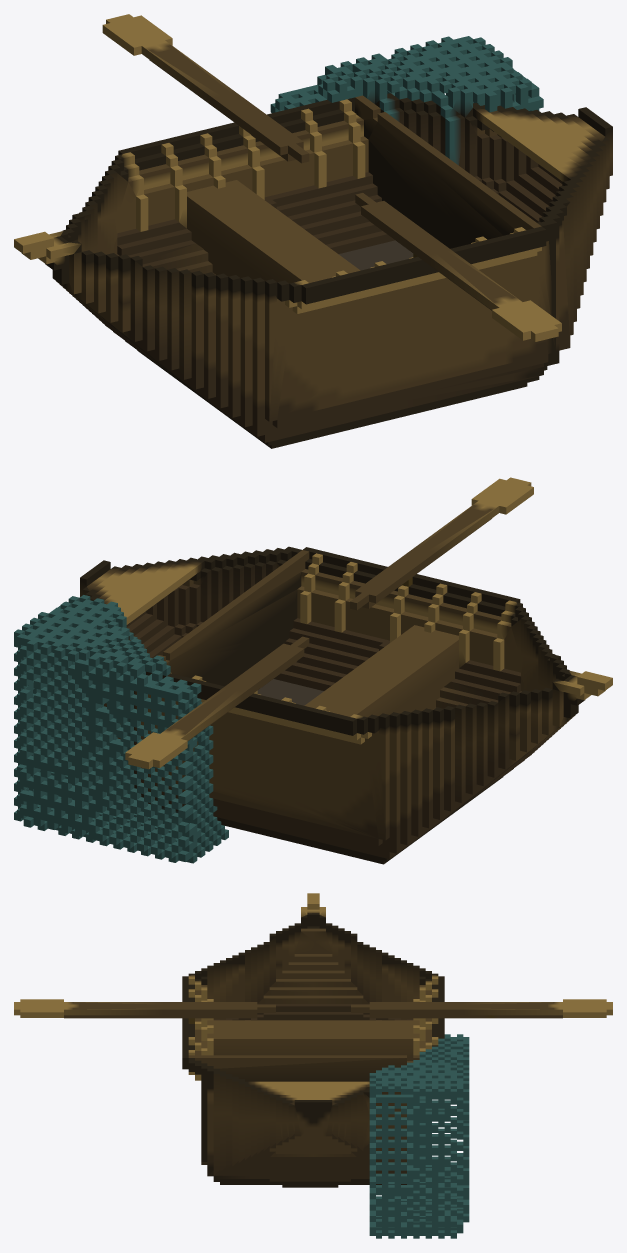
The model's file is Modell_BootmitNetz.dae.
3 renders of one model, top to bottom at view 1: azimuth 30°, elevation 25°; view 2: azimuth 150°, elevation 25°; view 3: azimuth 270°, elevation 25°, orthographic. The views are drawn at different scales.
Visible parts, largest first — view 1: modell_bootmitnetz.boat_prototyp; view 2: modell_bootmitnetz.boat_prototyp; view 3: modell_bootmitnetz.boat_prototyp.
Boxes of the visible parts, x1=… form: modell_bootmitnetz.boat_prototyp: x1=14, y1=14, x2=612, y2=448; modell_bootmitnetz.boat_prototyp: x1=14, y1=477, x2=612, y2=864; modell_bootmitnetz.boat_prototyp: x1=14, y1=893, x2=612, y2=1238.
Bounding box in the file's own units: 7.5 × 9.6 × 2.7.
1 material, 1 textured.
